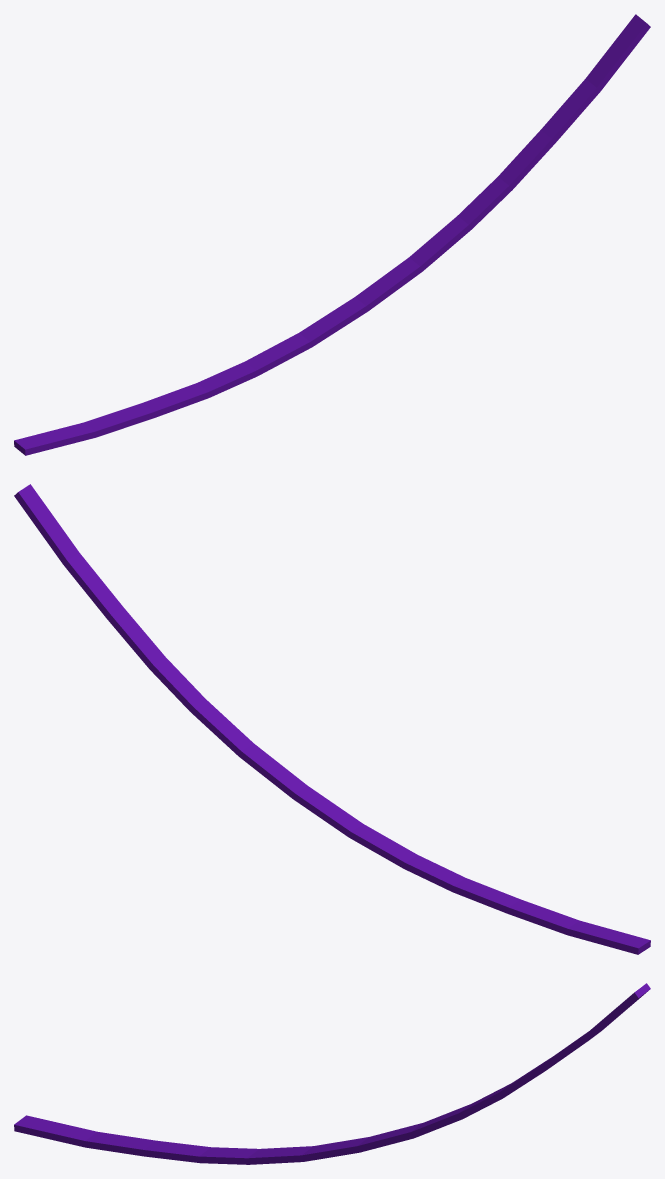
The model's file is Tape_12.fbx.
3 views of the same model, one above another, from view 1: azimuth 30°, elevation 25°; view 2: azimuth 150°, elevation 25°; view 3: azimuth 330°, elevation 25° (orthographic). The views are drawn at different scales.
Parts seen in each view (by area): view 1: Tape_12; view 2: Tape_12; view 3: Tape_12.
Part boxes in pixels (bbox=[...]): Tape_12: bbox=[14, 14, 650, 455]; Tape_12: bbox=[14, 484, 650, 954]; Tape_12: bbox=[14, 983, 650, 1164].
Bounding box in the file's own units: 736 × 334 × 46.1.
